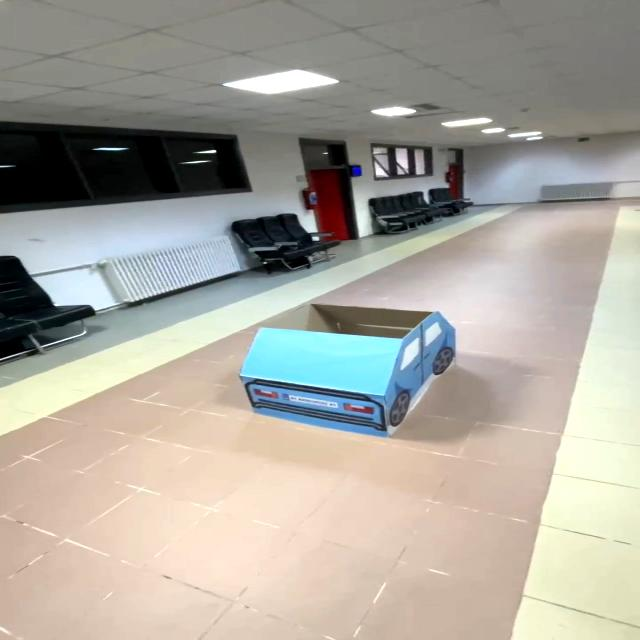blue_car: (182, 284, 494, 463)
